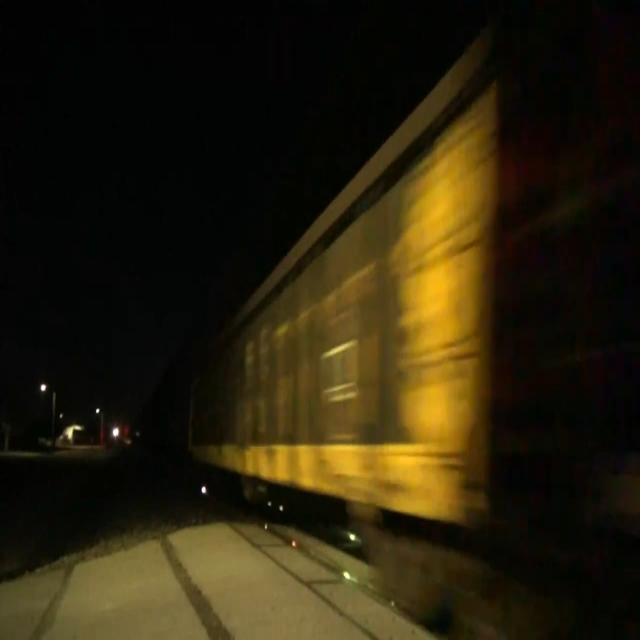gondola: (151, 11, 598, 640)
